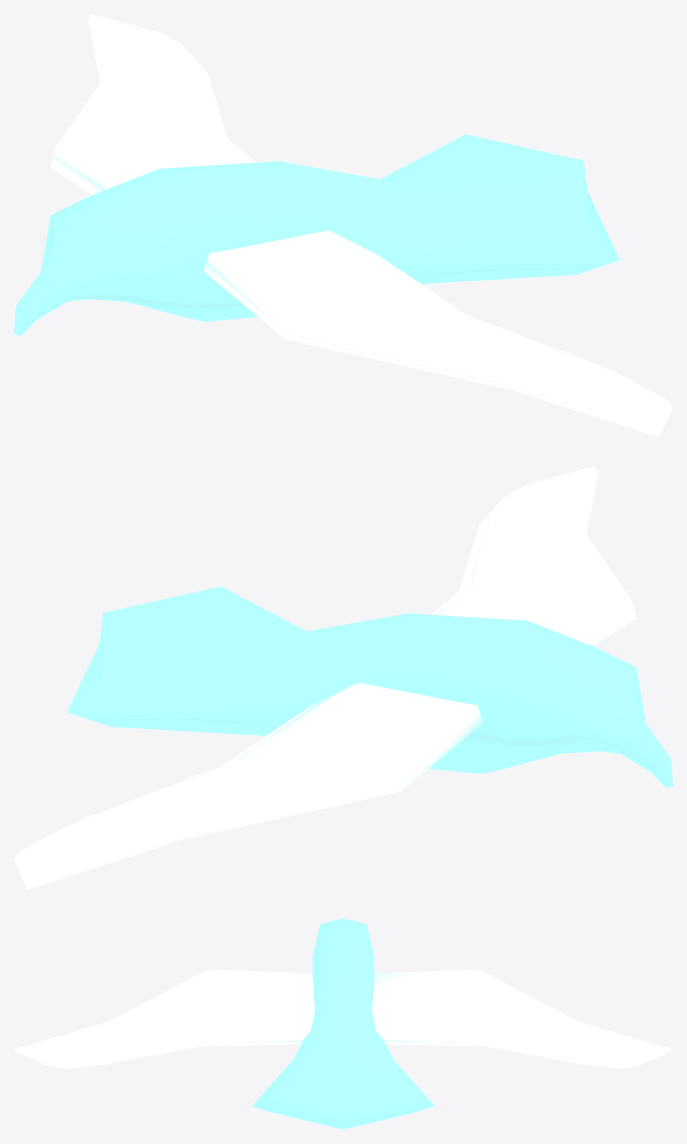
Rendered from SM_Bird.fbx.
The picture shows the model from 3 angles, top to bottom: view 1: azimuth 30°, elevation 25°; view 2: azimuth 150°, elevation 25°; view 3: azimuth 270°, elevation 25°; orthographic projection. The views are drawn at different scales.
Parts seen in each view (by area): view 1: SM_Bird_LOD0; view 2: SM_Bird_LOD0; view 3: SM_Bird_LOD0.
Part boxes in pixels (bbox=[...]): SM_Bird_LOD0: bbox=[14, 14, 672, 437]; SM_Bird_LOD0: bbox=[14, 466, 672, 889]; SM_Bird_LOD0: bbox=[14, 918, 672, 1129].
Size of the model in its own units: 61.94 by 107 by 16.63.
